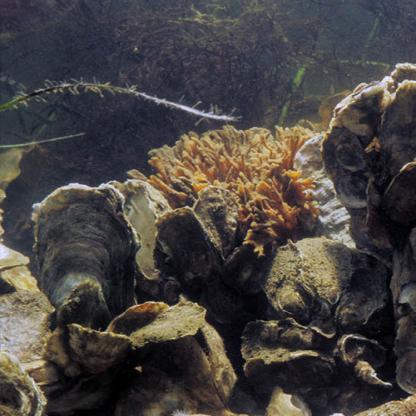Oyster- Indeterminate: (99, 180, 173, 293)
Oyster-Closed: (36, 184, 136, 334), (296, 132, 354, 246), (157, 205, 216, 287), (337, 250, 390, 332), (264, 241, 316, 322), (293, 235, 352, 301), (0, 292, 53, 362), (130, 300, 207, 348), (328, 82, 383, 149), (243, 320, 329, 360), (194, 188, 241, 259), (67, 324, 133, 374), (382, 80, 416, 176), (223, 247, 267, 295), (385, 162, 416, 223), (0, 265, 40, 292), (0, 247, 31, 273)
Oyster-Open: (176, 322, 238, 407), (0, 352, 48, 416), (265, 384, 314, 416)
